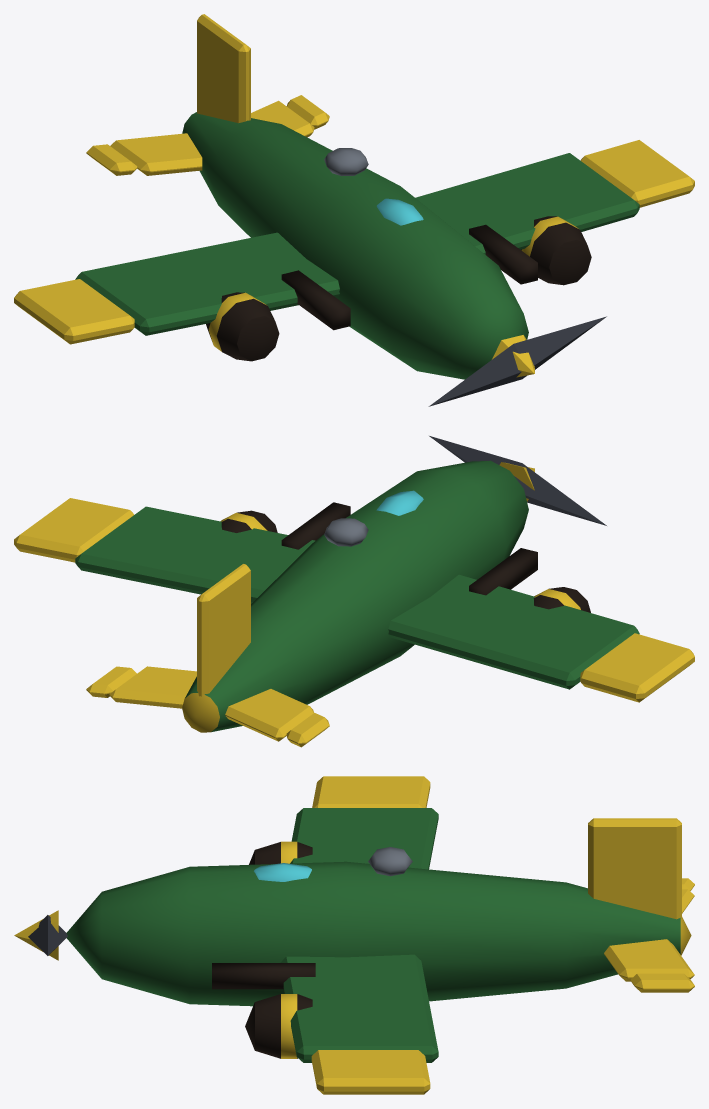
3 renders of one model, top to bottom at view 1: azimuth 30°, elevation 25°; view 2: azimuth 150°, elevation 25°; view 3: azimuth 270°, elevation 25°, orthographic.
Visible parts, largest first — view 1: as_0_base, as_1_torreta; view 2: as_0_base, as_1_torreta; view 3: as_0_base, as_1_torreta.
Boxes of the visible parts, x1,y1,x2,y2 form: as_0_base: (14,14,694,379); as_1_torreta: (428,316,606,406); as_0_base: (14,460,694,747); as_1_torreta: (429,436,606,525); as_0_base: (66,776,694,1094); as_1_torreta: (14,910,67,960).
Size of the model in its own units: 1.33 by 0.3714 by 1.25.
